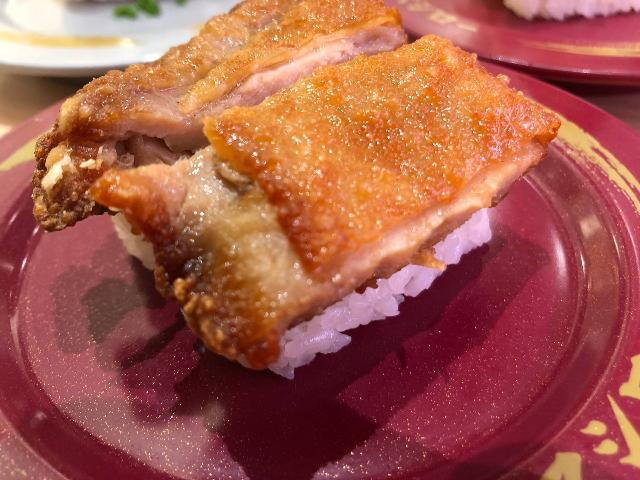janred: (16, 54, 640, 480), (398, 4, 636, 86)
janwhite: (0, 2, 231, 81)
